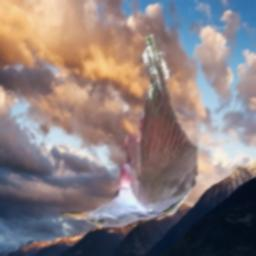Cuckoo: (61, 34, 198, 228)
